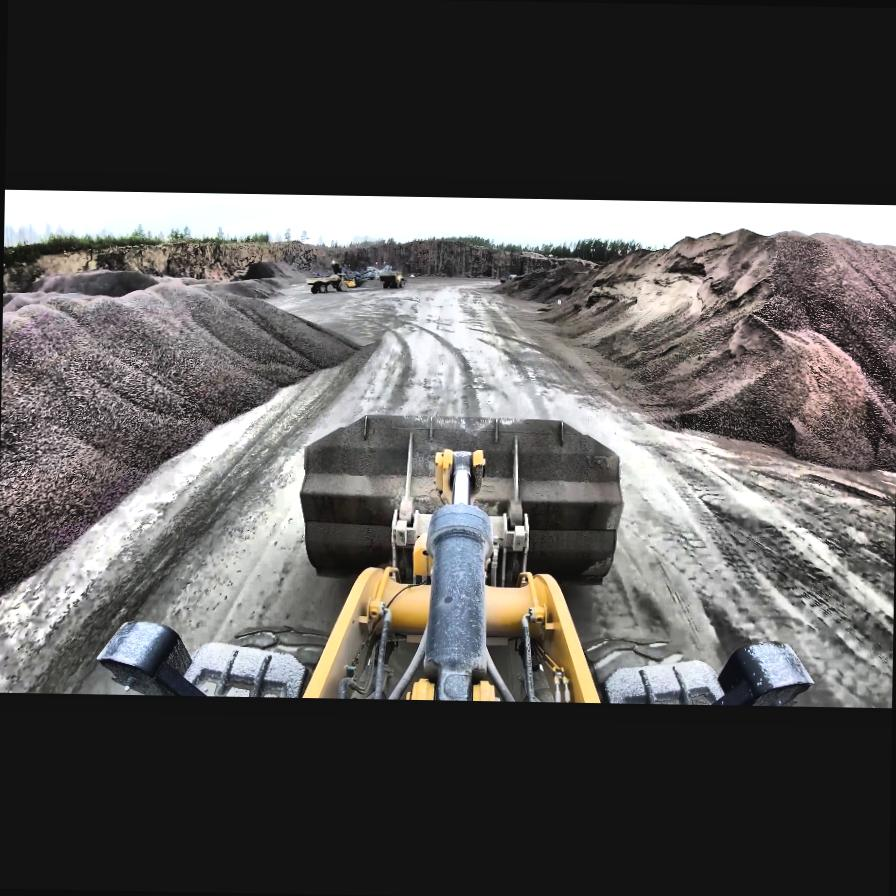anchor: (432, 446, 483, 504)
pile of gravel: (0, 267, 364, 634), (524, 221, 896, 472), (1, 268, 324, 368), (4, 268, 324, 302), (498, 251, 602, 301), (250, 258, 306, 281)
